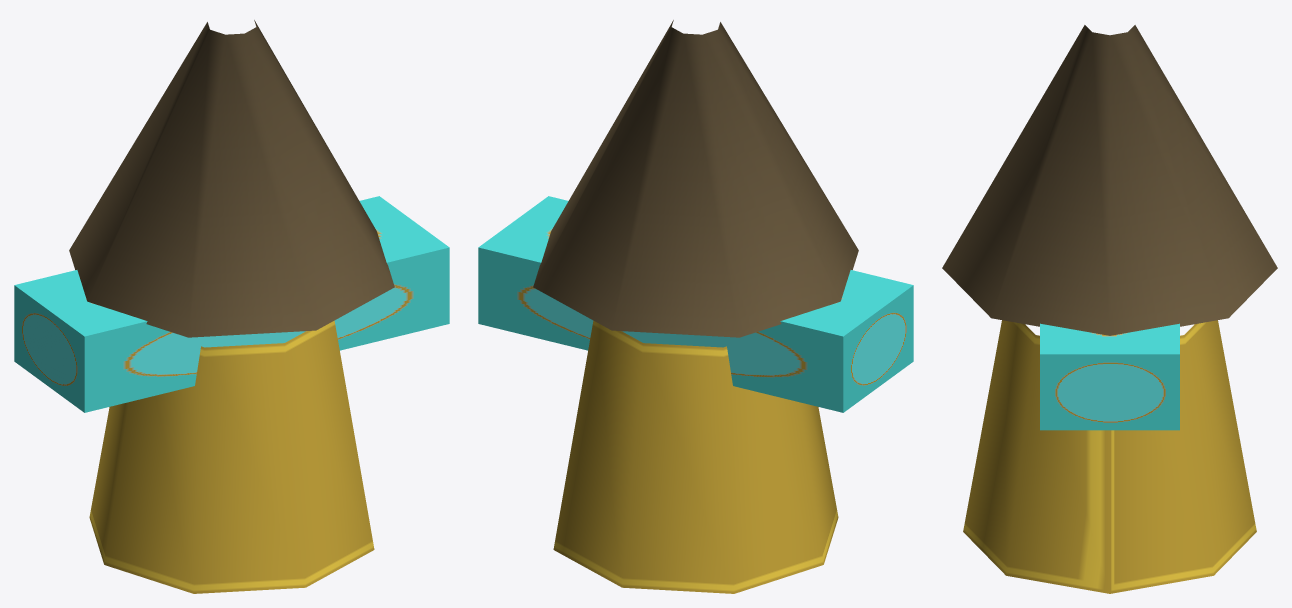
Rendered from ITEM_SUNDIAL_GNOMON.glb.
3 renders of one model, left to right at view 1: azimuth 30°, elevation 25°; view 2: azimuth 150°, elevation 25°; view 3: azimuth 270°, elevation 25°, orthographic.
Parts seen in each view (by area): view 1: ITEM_SUNDIAL_GNOMON; view 2: ITEM_SUNDIAL_GNOMON; view 3: ITEM_SUNDIAL_GNOMON.
Boxes of the visible parts, bbox=[...] form: ITEM_SUNDIAL_GNOMON: bbox=[14, 20, 449, 593]; ITEM_SUNDIAL_GNOMON: bbox=[478, 20, 913, 593]; ITEM_SUNDIAL_GNOMON: bbox=[942, 25, 1277, 593].
Size of the model in its own units: 0.24 by 0.32 by 0.192.
1 material, 1 textured.
